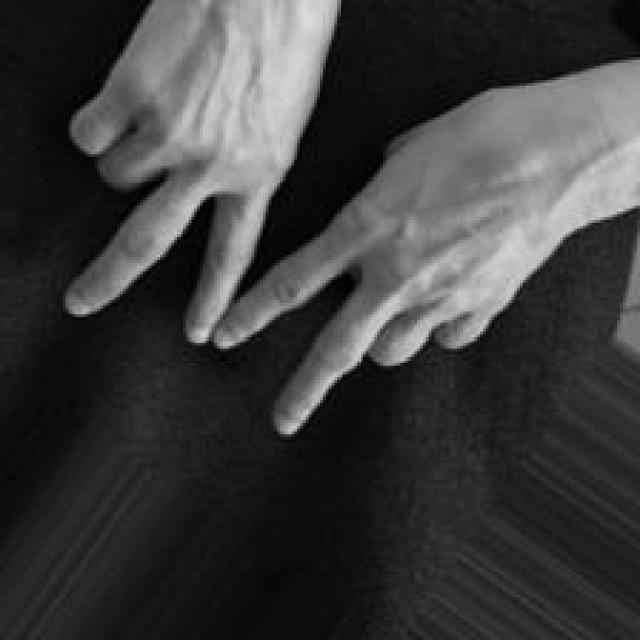M: (45, 3, 577, 446)
